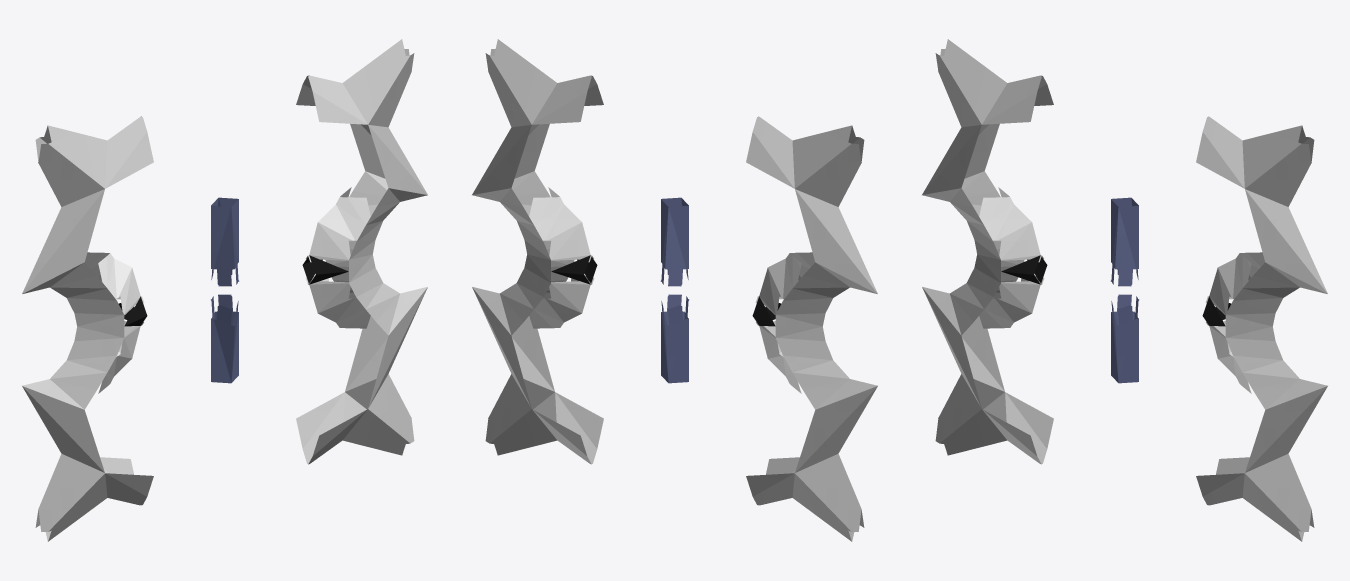
The model's file is ashes.obj.
3 renders of one model, left to right at view 1: azimuth 30°, elevation 25°; view 2: azimuth 150°, elevation 25°; view 3: azimuth 330°, elevation 25°, orthographic.
Size of the model in its own units: 60 by 61.23 by 5.73.
